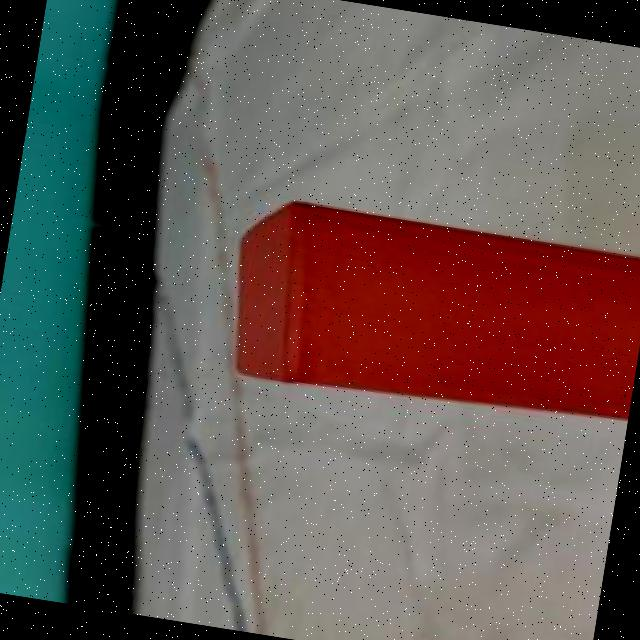redbox: (219, 190, 640, 431)
